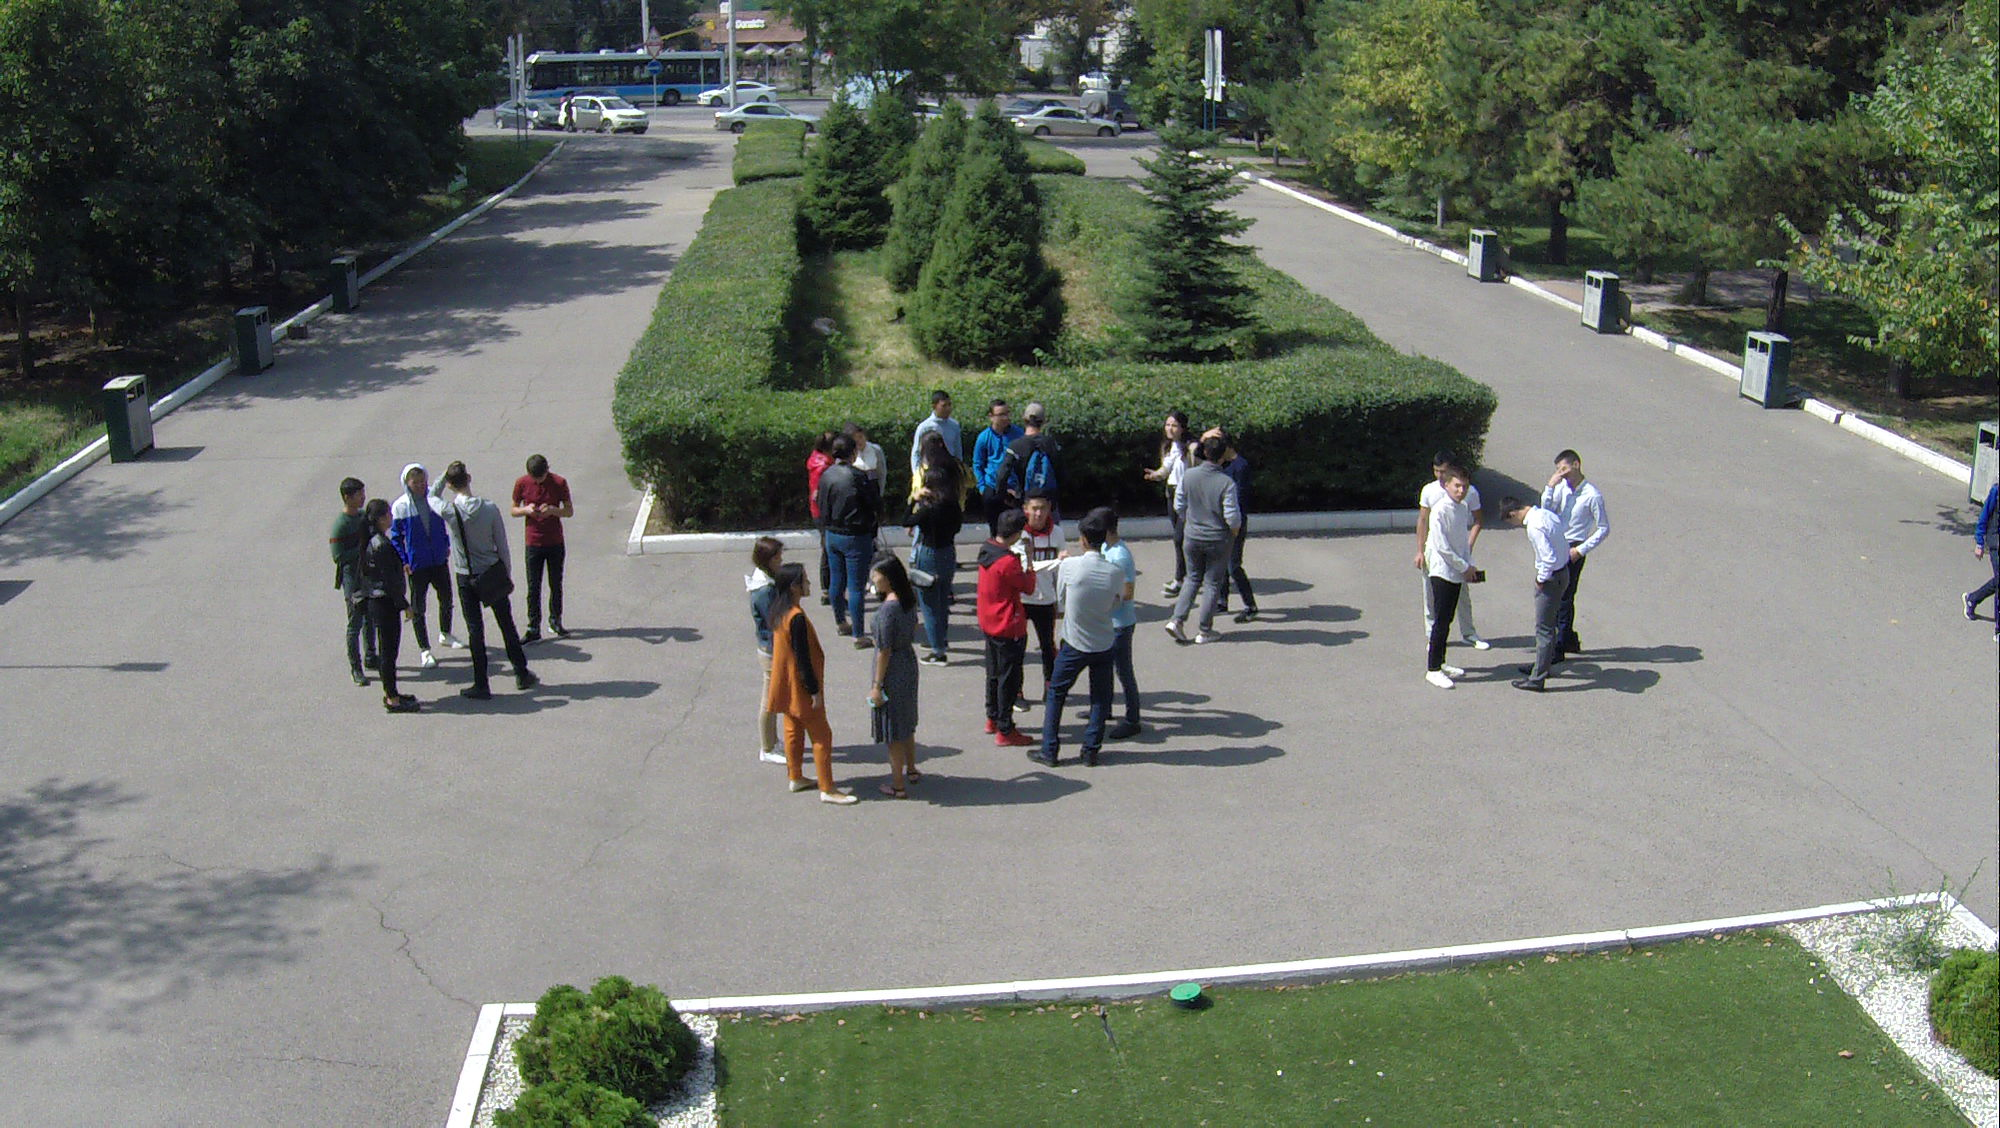person: (764, 574, 868, 812), (860, 555, 939, 801), (455, 453, 526, 710), (1168, 447, 1239, 651), (1499, 495, 1570, 695), (355, 499, 416, 708), (514, 453, 572, 649), (395, 455, 449, 662), (1435, 472, 1482, 680), (820, 441, 868, 641), (328, 478, 376, 668), (1551, 443, 1595, 616), (1143, 412, 1189, 520), (1007, 410, 1055, 503), (745, 539, 787, 641), (978, 399, 1016, 485), (920, 391, 968, 447)
